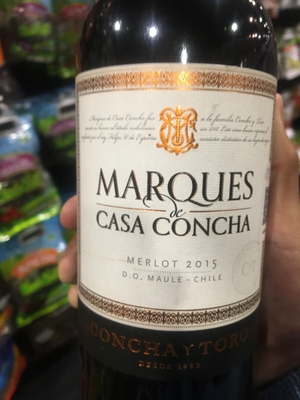marques de casa concha merlot: (58, 12, 284, 400)
